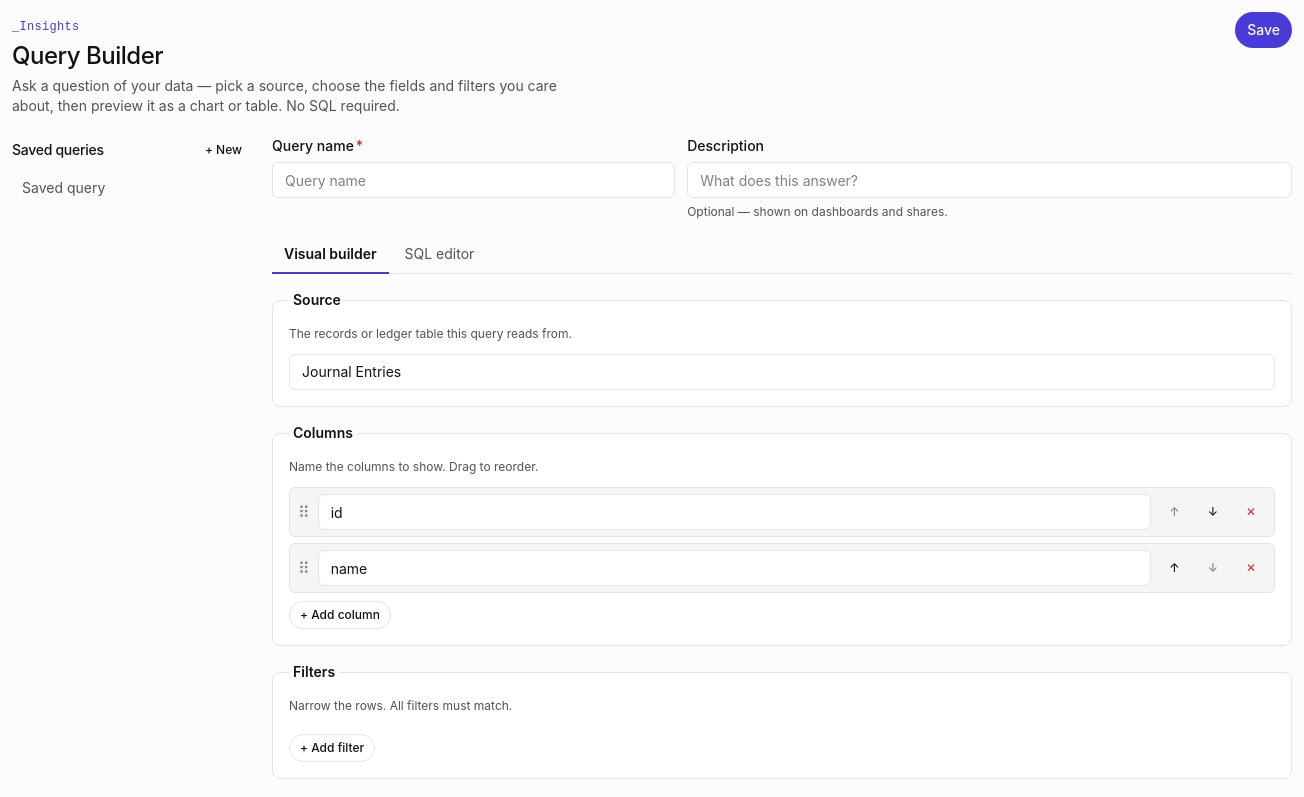
Scenario: InsightsQueryBuilderPage › Run before save shows the inline 'save first' error
Check: the button "Run" is not shown
Click the button "Saved query" at (132, 188), box top-left (12, 172), bottom-right (252, 204)
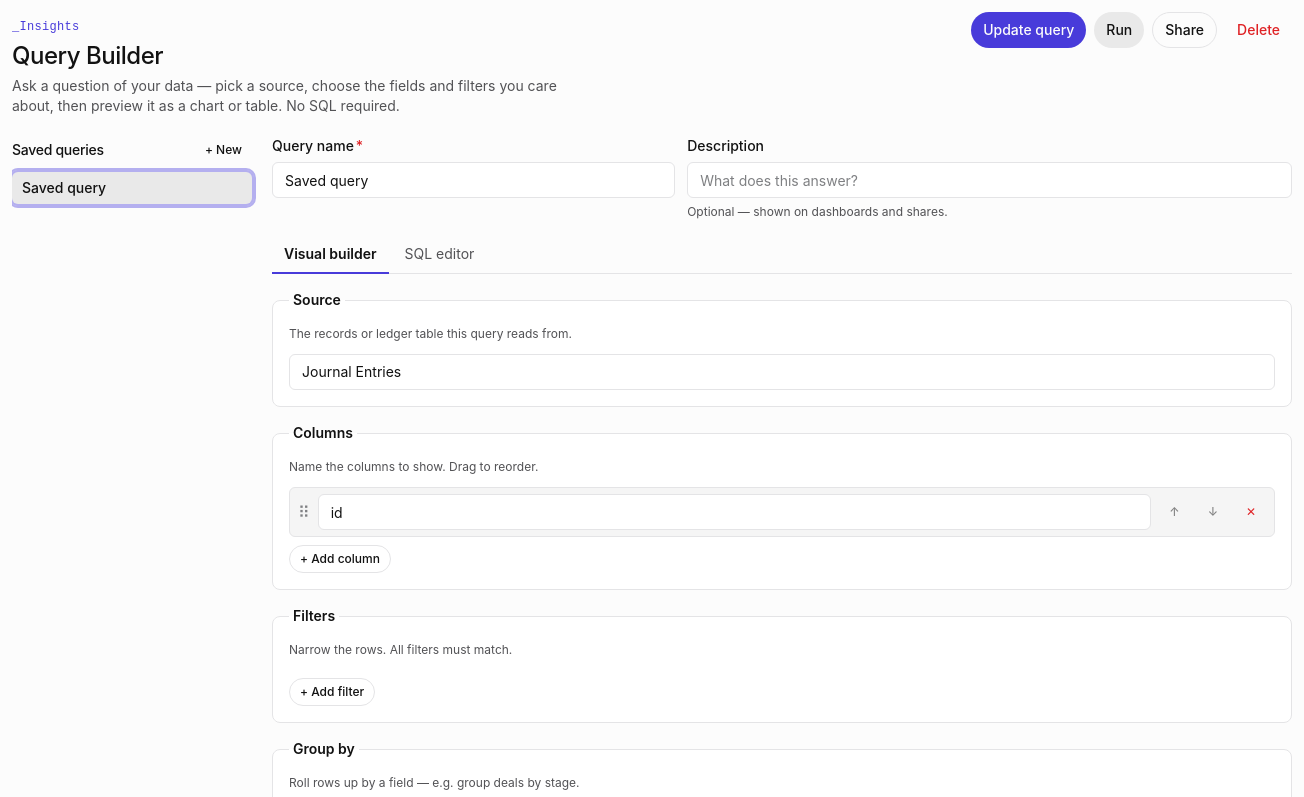
Check: the button "Run" is shown, box top-left (1094, 12), bottom-right (1144, 48)
